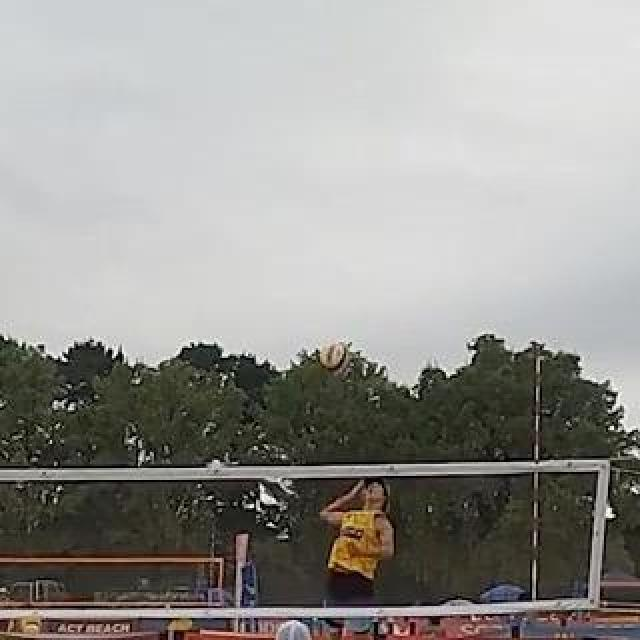volleyball: (320, 343, 348, 371)
